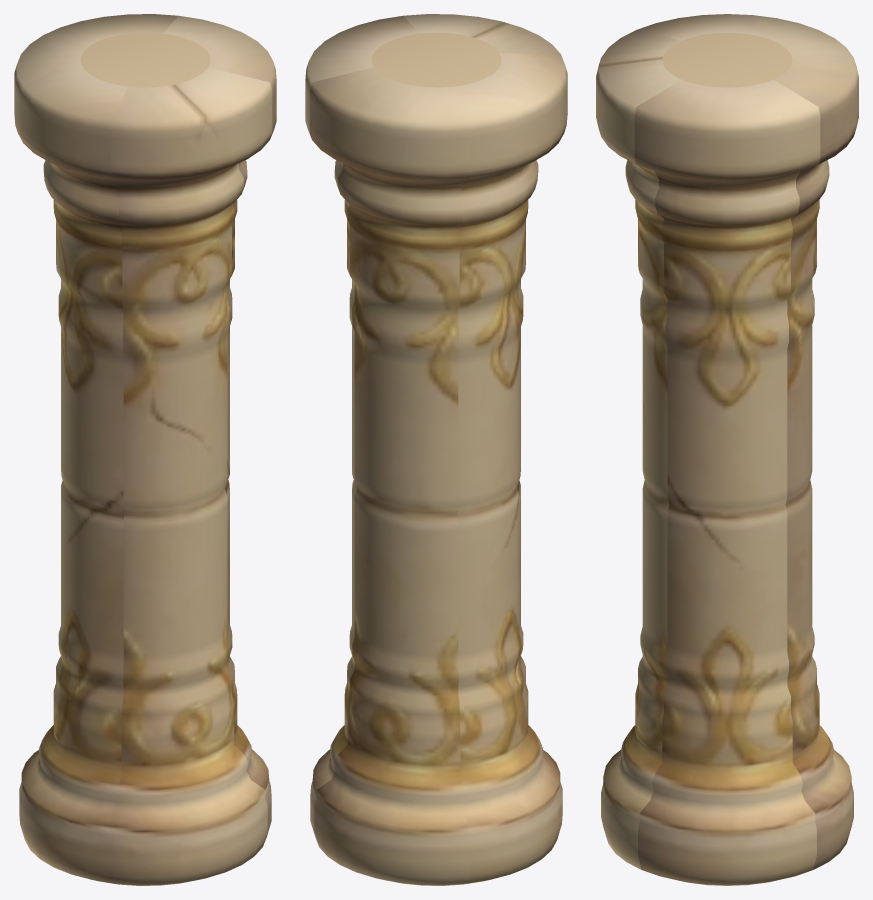
The model's file is arena-pillar.glb.
3 views of the same model, side by side, from view 1: azimuth 30°, elevation 25°; view 2: azimuth 150°, elevation 25°; view 3: azimuth 270°, elevation 25° (orthographic).
Parts seen in each view (by area): view 1: piece; view 2: piece; view 3: piece.
Part boxes in pixels (box(x1,y1,x2,y2)): piece: box(14, 14, 276, 885); piece: box(305, 14, 567, 885); piece: box(596, 14, 858, 885).
Bounding box in the file's own units: 1.45 × 4.8 × 1.45.
1 material, 1 textured.
